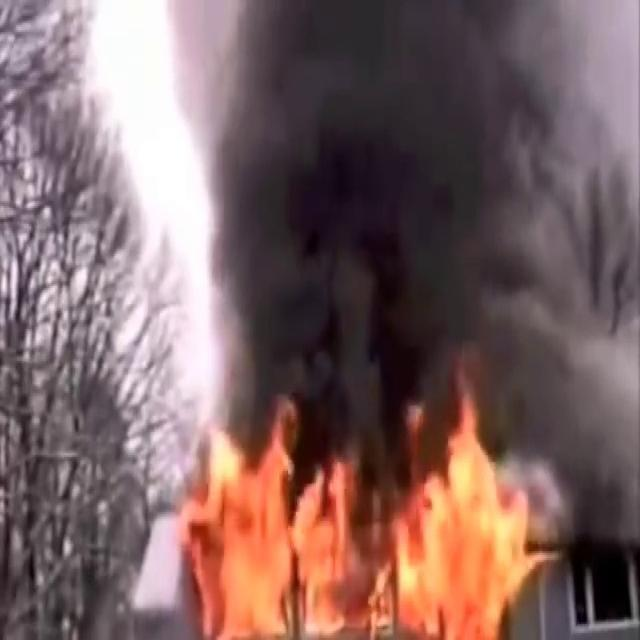Fire: (176, 396, 547, 640)
Smoke: (168, 0, 640, 478)
